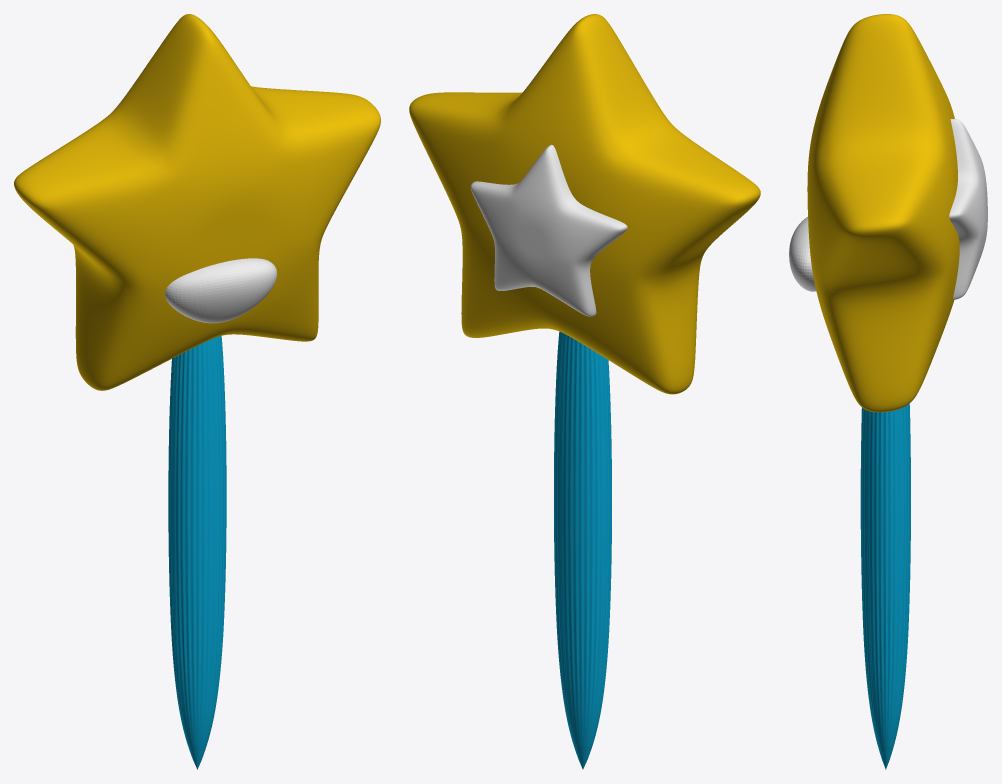
Rendered from varita.glb.
3 renders of one model, left to right at view 1: azimuth 30°, elevation 25°; view 2: azimuth 150°, elevation 25°; view 3: azimuth 270°, elevation 25°, orthographic.
Visible parts, largest first — view 1: Estrella.001; view 2: Estrella.001; view 3: Estrella.001.
Part boxes in pixels (box(x1,y1,x2,y2)): Estrella.001: box(14, 14, 380, 769); Estrella.001: box(409, 14, 760, 769); Estrella.001: box(789, 14, 987, 769).
Size of the model in its own units: 0.8275 by 1.72 by 0.4114.
